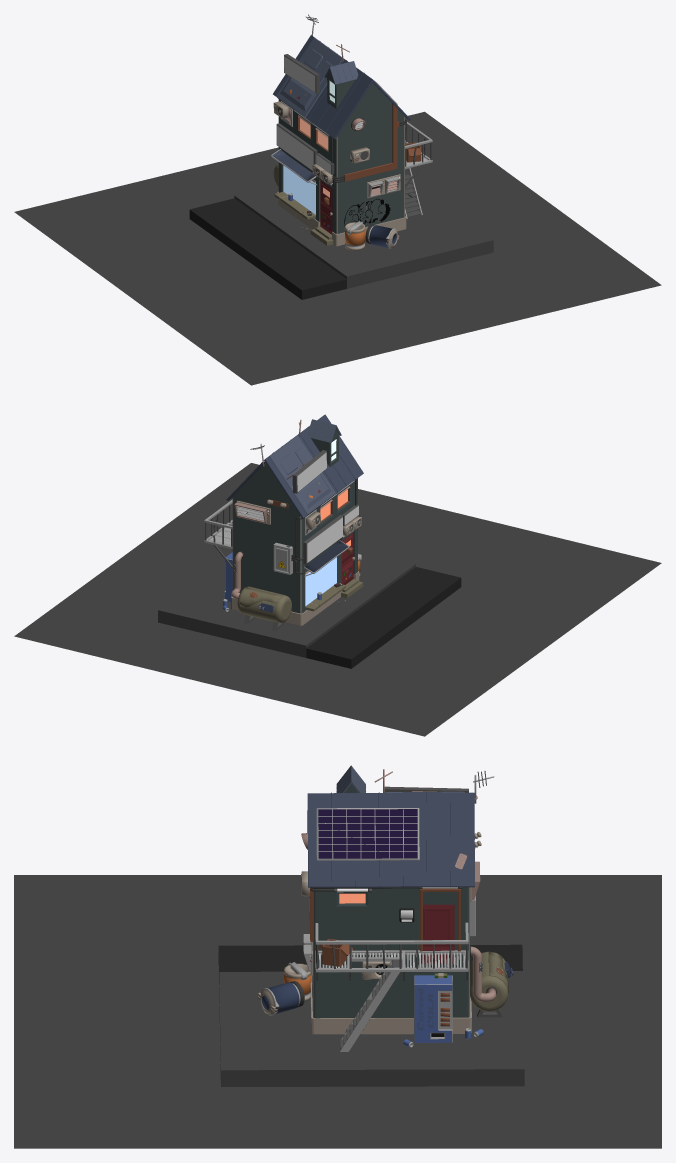
Rendered from building7.fbx.
3 views of the same model, one above another, from view 1: azimuth 30°, elevation 25°; view 2: azimuth 150°, elevation 25°; view 3: azimuth 270°, elevation 25° (orthographic). The views are drawn at different scales.
Visible parts, largest first — view 1: Plane.593; view 2: Plane.593; view 3: Plane.593.
Boxes of the visible parts, left/top/right/bottom form: Plane.593: left=14, top=14, right=661, bottom=385; Plane.593: left=14, top=414, right=661, bottom=736; Plane.593: left=14, top=765, right=661, bottom=1148.
Size of the model in its own units: 3000 by 1433 by 3000.
Materials: 38 (3 with a texture image).
